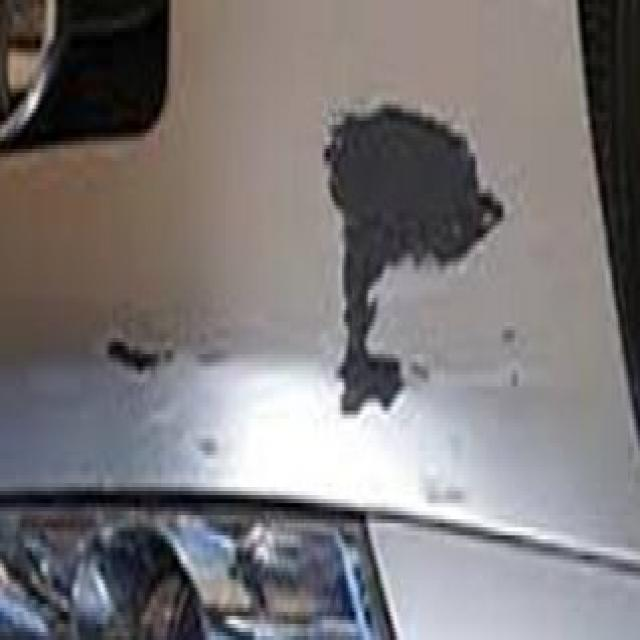scratch: (292, 76, 512, 447), (90, 308, 182, 392)
